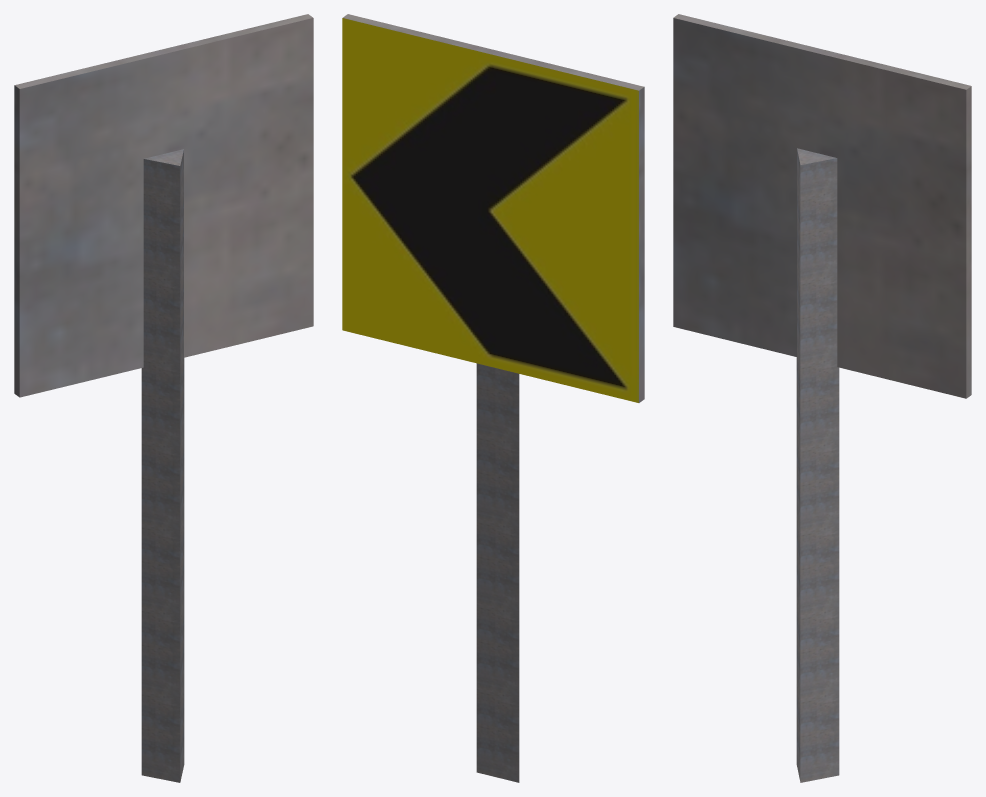
The model's file is Sign_ChevronLeft.FBX.
The picture shows the model from 3 angles, left to right: view 1: azimuth 30°, elevation 25°; view 2: azimuth 150°, elevation 25°; view 3: azimuth 330°, elevation 25°; orthographic projection.
Visible parts, largest first — view 1: Sign_ChevronLeft__13__1; view 2: Sign_ChevronLeft__13__1; view 3: Sign_ChevronLeft__13__1.
Boxes of the visible parts, x1,y1,x2,y2 form: Sign_ChevronLeft__13__1: [14, 14, 313, 782]; Sign_ChevronLeft__13__1: [342, 14, 644, 782]; Sign_ChevronLeft__13__1: [673, 14, 971, 782].
Size of the model in its own units: 6.88 by 16.06 by 0.8937.
1 material, 1 textured.
